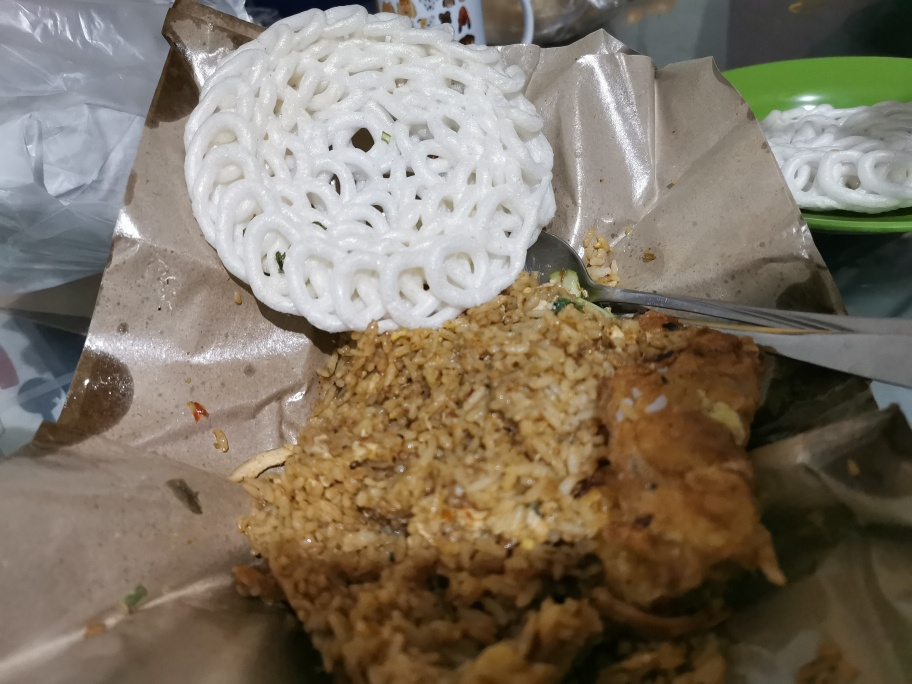kerupuk: (178, 7, 550, 326)
nasi goreng: (241, 323, 761, 684)
